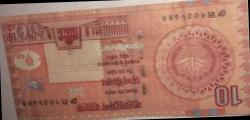10 taka: (2, 17, 247, 115)
